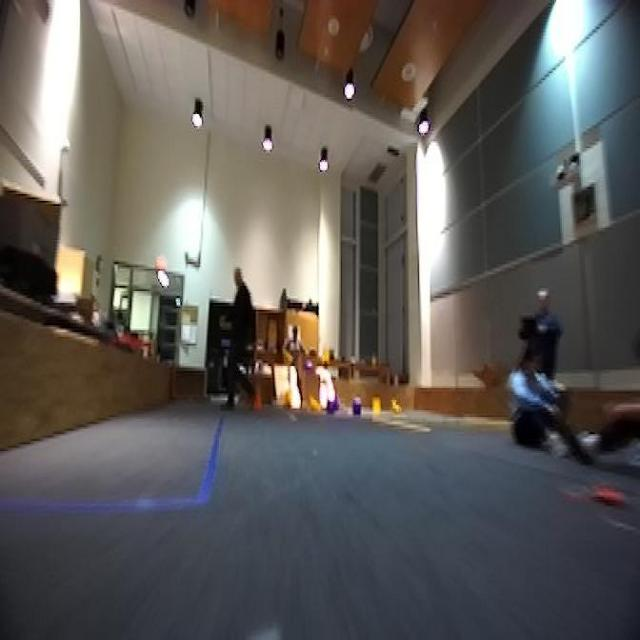frc_cone: (305, 395, 321, 417), (370, 397, 381, 422), (390, 400, 404, 419), (284, 347, 296, 366), (321, 342, 331, 364)
frc_cube: (350, 396, 364, 418), (303, 356, 315, 374), (326, 398, 336, 417)
